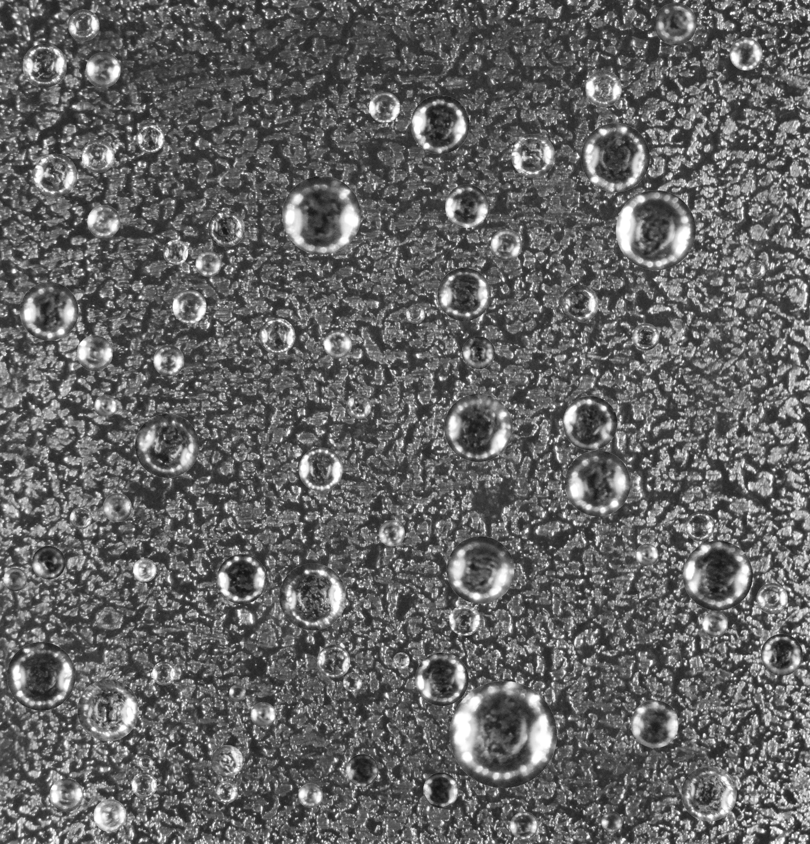Bubble: (449, 681, 556, 788), (616, 190, 695, 270), (282, 176, 360, 254), (683, 540, 752, 610), (6, 642, 75, 710), (444, 393, 512, 461), (581, 123, 649, 191), (446, 536, 514, 603), (279, 563, 346, 630), (564, 450, 630, 516), (135, 413, 199, 477), (77, 679, 138, 741), (19, 282, 78, 340), (410, 95, 469, 153), (681, 766, 736, 821), (563, 396, 617, 450), (437, 267, 490, 321), (415, 652, 468, 706), (216, 554, 266, 604), (631, 700, 678, 747), (298, 447, 342, 491), (33, 153, 77, 197), (22, 43, 66, 87), (511, 134, 555, 177), (445, 184, 488, 227), (654, 2, 696, 45), (761, 634, 802, 675), (561, 284, 598, 322), (585, 70, 621, 106), (208, 210, 244, 246), (76, 335, 112, 371), (423, 772, 458, 808), (259, 318, 295, 353), (85, 52, 120, 87), (172, 289, 206, 323), (31, 546, 65, 579), (729, 37, 762, 70), (317, 645, 350, 678), (81, 139, 114, 172), (49, 778, 82, 811), (93, 799, 126, 831), (87, 205, 120, 237), (462, 336, 494, 369), (346, 754, 378, 786), (211, 745, 243, 777), (67, 9, 99, 41), (490, 229, 522, 260), (449, 604, 480, 635), (756, 583, 787, 614), (153, 345, 184, 376), (369, 91, 400, 122), (102, 493, 131, 522), (685, 512, 714, 541), (136, 124, 164, 152), (323, 330, 351, 358), (510, 811, 538, 839), (632, 323, 659, 350), (195, 250, 221, 276), (378, 520, 404, 546), (250, 702, 275, 727), (702, 611, 727, 636), (131, 772, 156, 797), (163, 239, 188, 264), (346, 393, 371, 418), (298, 783, 322, 807), (3, 567, 26, 591), (152, 661, 175, 685), (133, 558, 156, 581), (635, 543, 658, 566), (94, 394, 116, 417), (69, 507, 91, 529), (215, 781, 237, 803), (601, 811, 622, 832), (343, 672, 362, 691), (406, 304, 425, 323), (747, 260, 765, 279), (393, 652, 409, 669), (229, 684, 245, 701), (138, 755, 152, 770), (633, 17, 643, 27)
